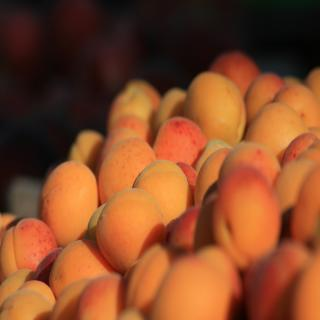Peach: (0, 51, 320, 320), (95, 189, 165, 275)
